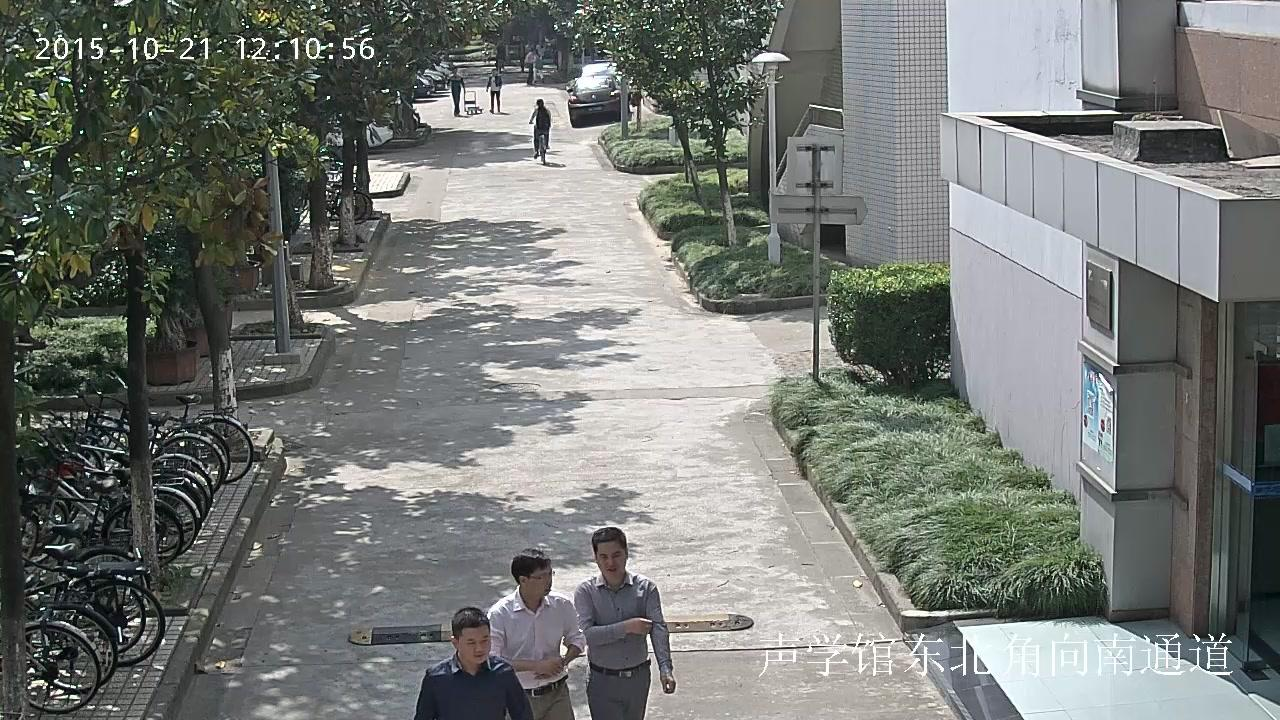face: (458, 625, 491, 664), (596, 541, 624, 576), (528, 564, 552, 596), (452, 68, 456, 73), (492, 70, 497, 74), (520, 42, 523, 45), (535, 49, 537, 53), (528, 41, 530, 43)
